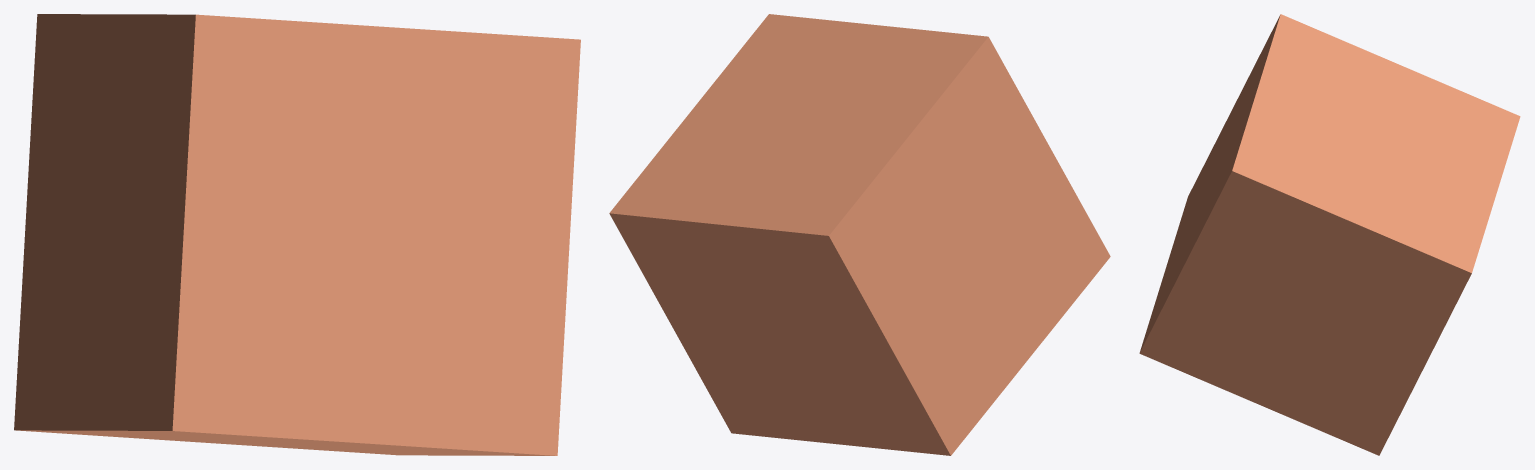
Rendered from example.glb.
3 renders of one model, left to right at view 1: azimuth 30°, elevation 25°; view 2: azimuth 150°, elevation 25°; view 3: azimuth 270°, elevation 25°, orthographic. The views are drawn at different scales.
Visible parts, largest first — view 1: Cube; view 2: Cube; view 3: Cube.
Boxes of the visible parts, x1,y1,x2,y2 form: Cube: (14, 14, 580, 455); Cube: (609, 14, 1110, 455); Cube: (1139, 14, 1520, 455).
Bounding box in the file's own units: 2.64 × 3 × 2.91.
